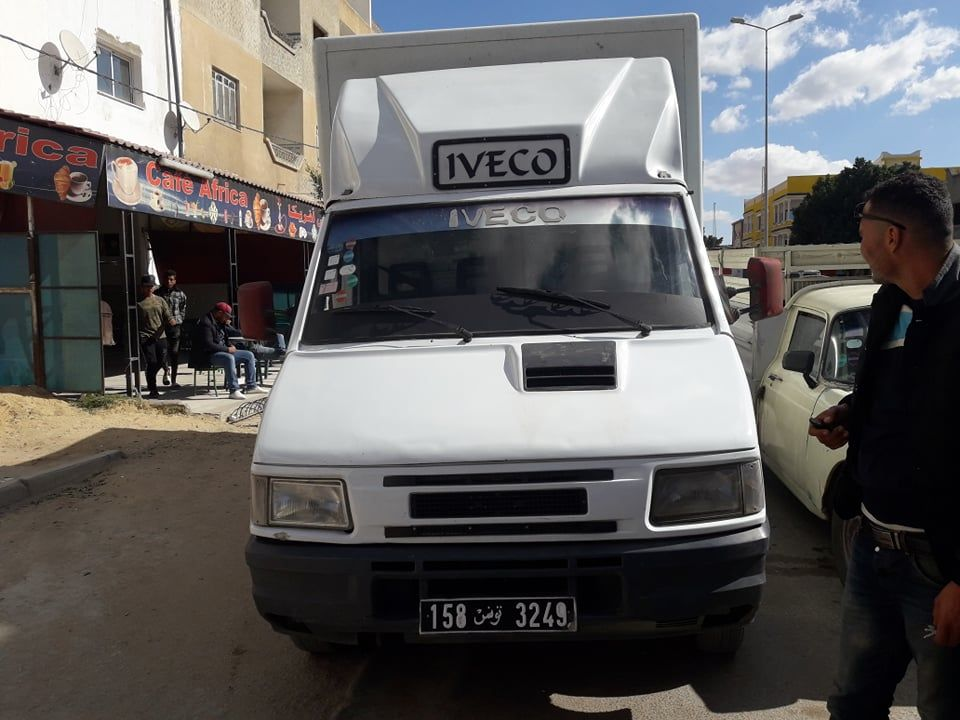LP: (419, 598, 578, 634)
